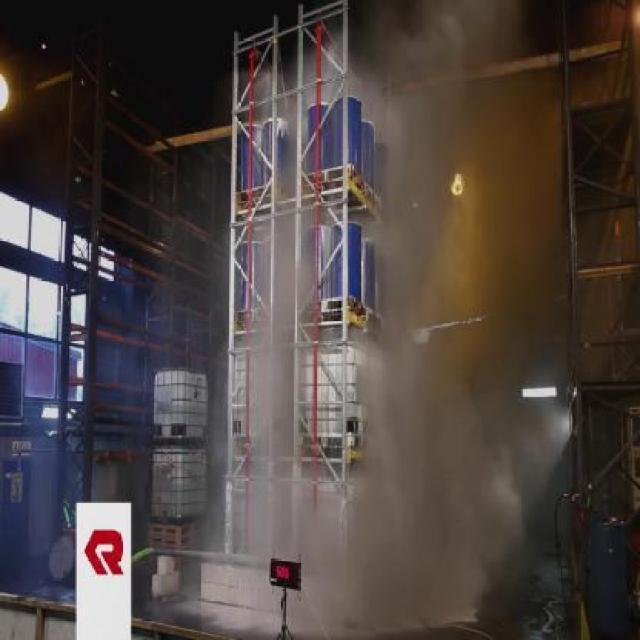fire: (361, 0, 547, 531), (213, 182, 310, 527)
